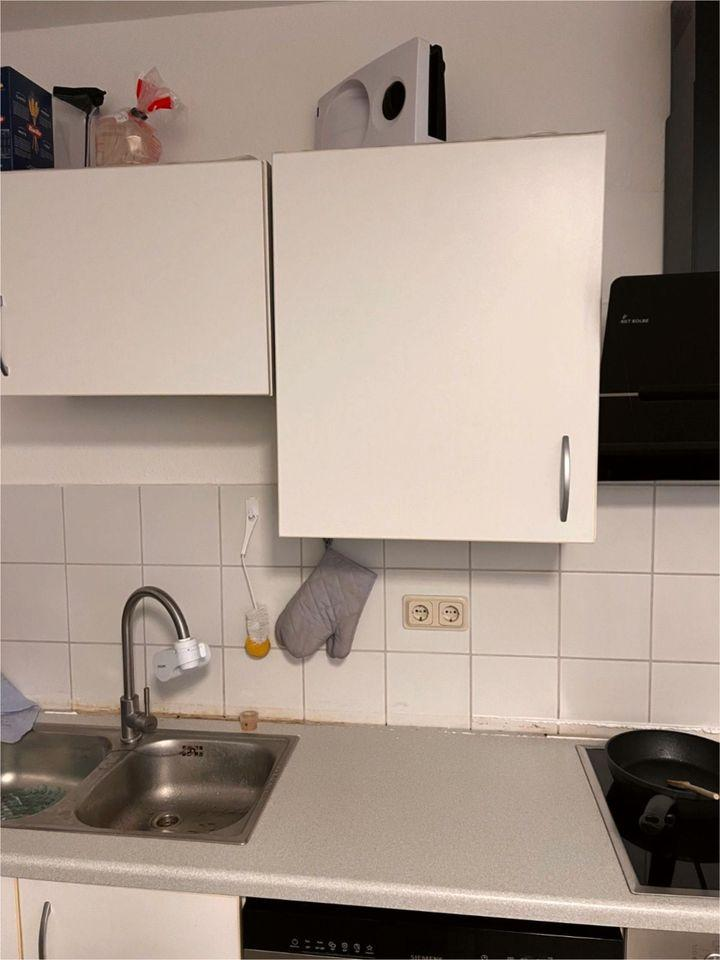cabinet_door: (280, 141, 597, 537), (2, 165, 272, 390), (21, 888, 238, 960)
handle: (557, 430, 575, 530), (33, 900, 55, 960), (0, 287, 11, 380)
